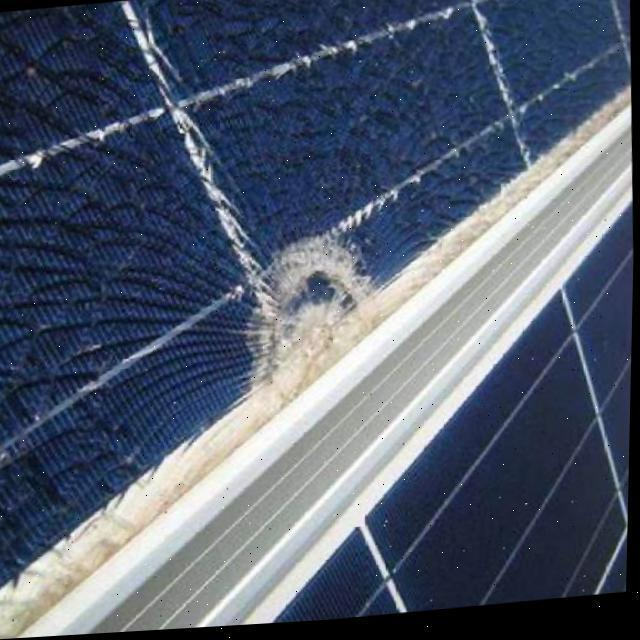Structural Damage: (194, 213, 390, 411)
